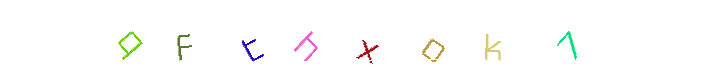7: (529, 0, 609, 80)
F: (211, 0, 291, 80)
H: (320, 0, 400, 80)
K: (386, 0, 466, 80)
O: (348, 0, 428, 80)
Q: (111, 0, 191, 80)
T: (258, 0, 338, 80)
X: (327, 0, 407, 80)
